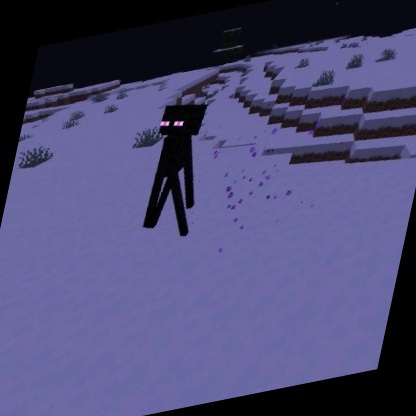enderman: (131, 93, 222, 250)
